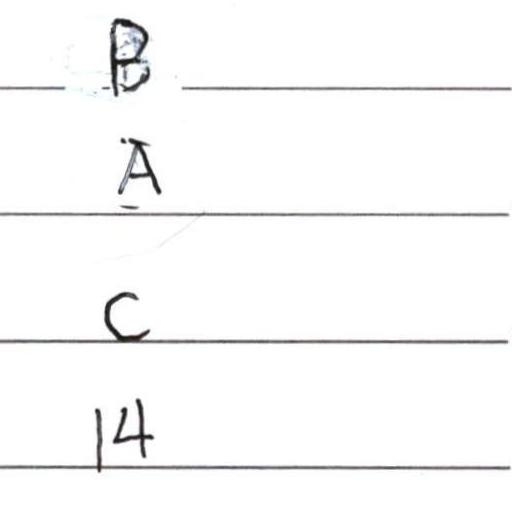ans: (90, 395, 154, 469), (100, 8, 152, 97), (101, 290, 152, 343), (117, 137, 161, 197)
